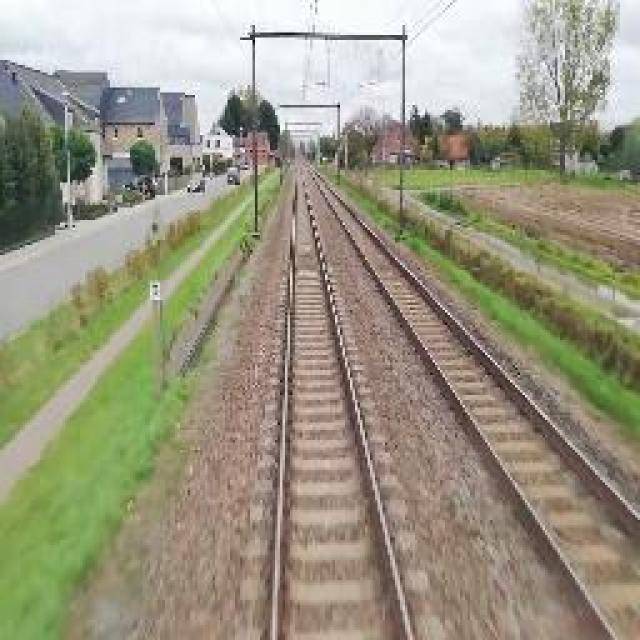rail: (227, 157, 452, 640)
